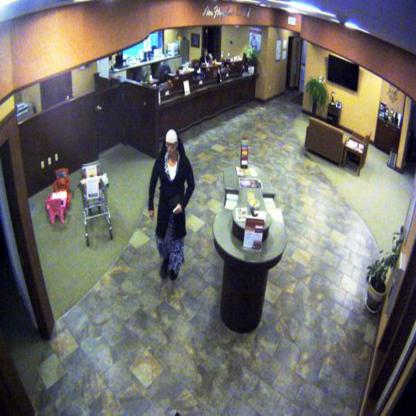face: (167, 141, 177, 155), (205, 50, 208, 56)
